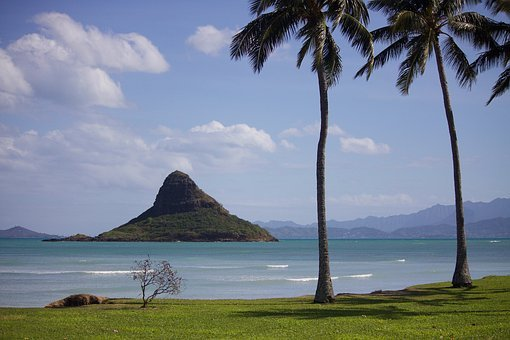field: (7, 303, 509, 337)
mountain: (96, 173, 278, 242)
sea: (4, 238, 509, 291)
sky: (3, 7, 510, 218)
tree: (251, 3, 379, 305), (378, 1, 506, 302), (131, 266, 191, 308)
